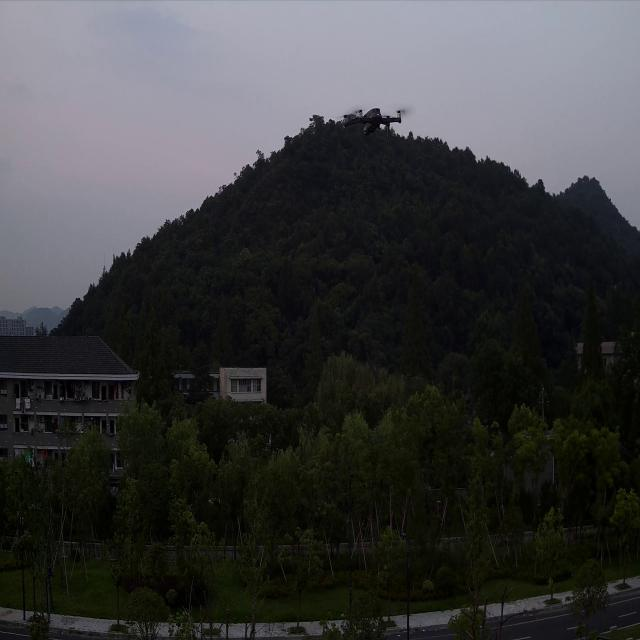UAV: (341, 107, 405, 138)
